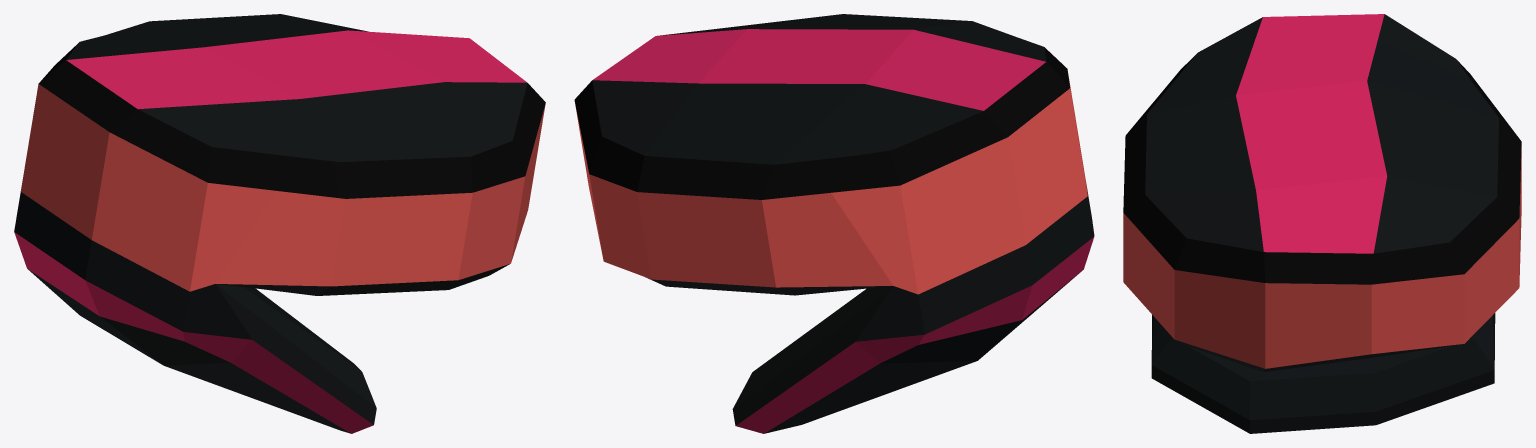
The model's file is Goalkeeper_1_Trapper.fbx.
The picture shows the model from 3 angles, left to right: view 1: azimuth 30°, elevation 25°; view 2: azimuth 150°, elevation 25°; view 3: azimuth 270°, elevation 25°; orthographic projection. The views are drawn at different scales.
Parts seen in each view (by area): view 1: Goalkeeper_1_Trapper; view 2: Goalkeeper_1_Trapper; view 3: Goalkeeper_1_Trapper.
Part boxes in pixels (x1,y1,x2,y2): Goalkeeper_1_Trapper: [14, 14, 545, 433]; Goalkeeper_1_Trapper: [574, 14, 1094, 433]; Goalkeeper_1_Trapper: [1123, 14, 1521, 433].
Bounding box in the file's own units: 36.51 × 27.3 × 29.79.
